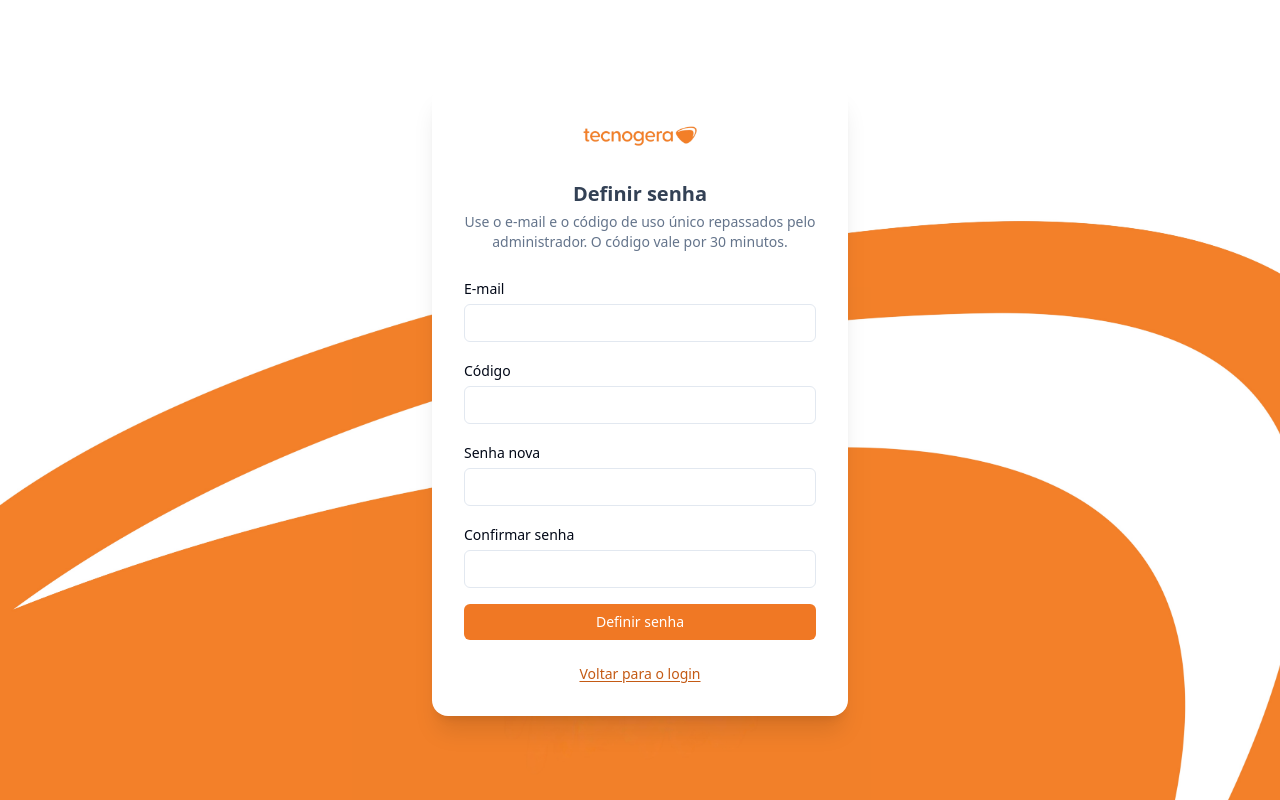
Test: DefinirSenhaPage › exige senha com pelo menos 8 caracteres antes de enviar
This screenshot has width=1280, height=800.
Type "usuario@tecnogera.com" into the field labelled "E-mail" at (640, 323), box [464,304,816,342]
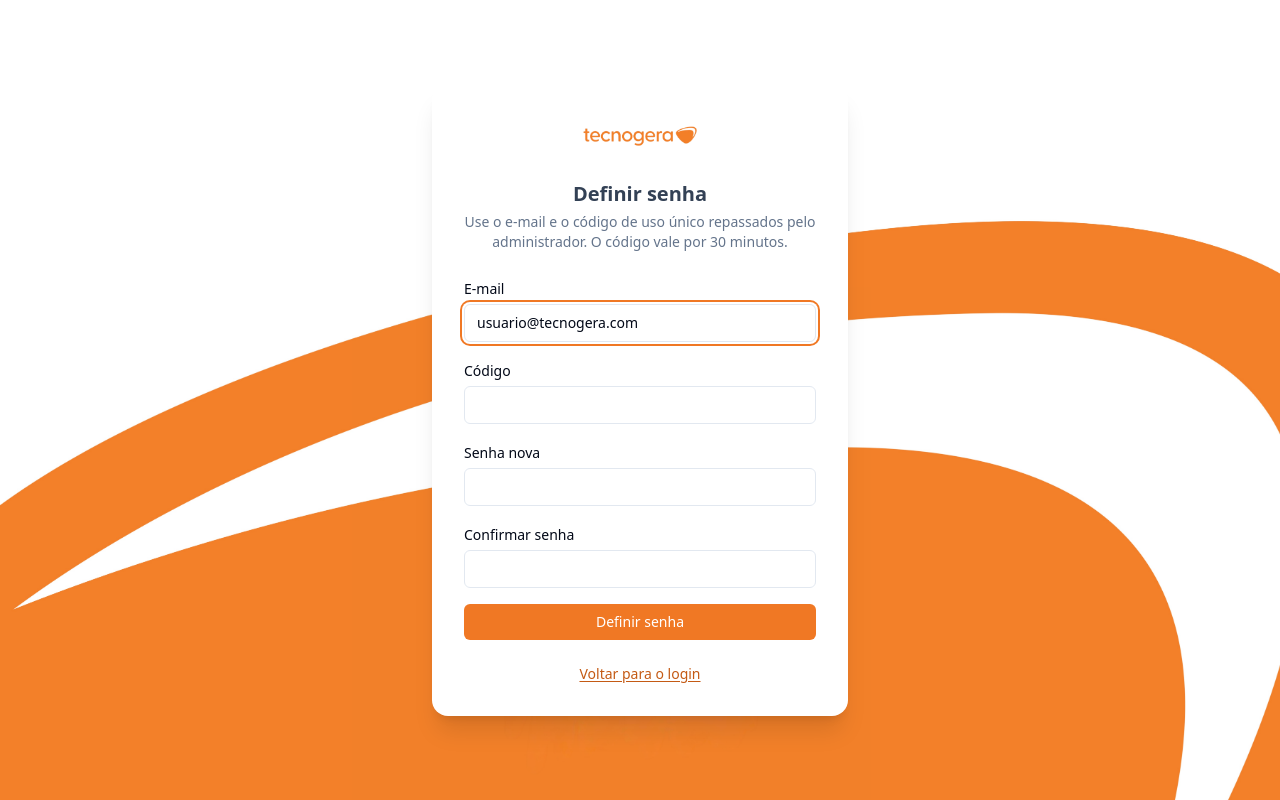
Type "CODIGO-1" into the field labelled "Código" at (640, 405), box [464,386,816,424]
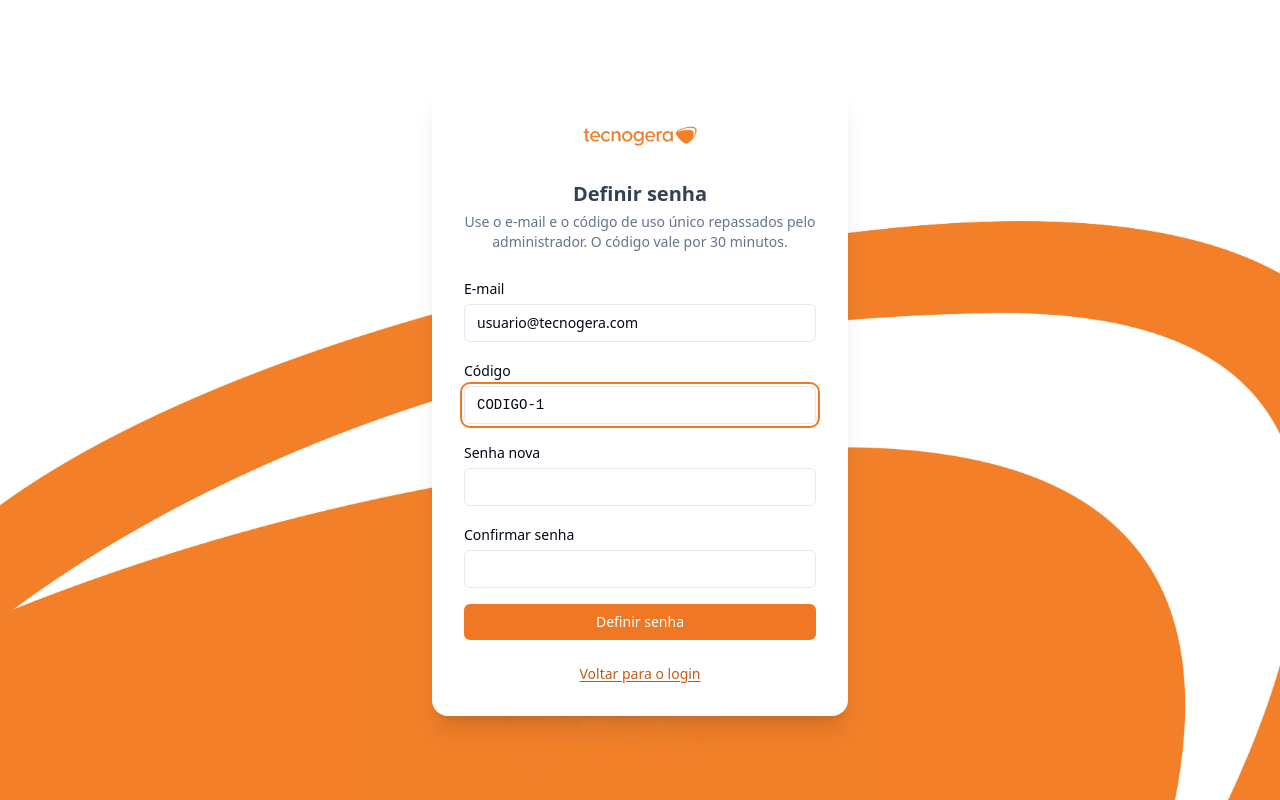
Type "abc123" into the password field labelled "Senha nova" at (640, 487), box [464,468,816,506]
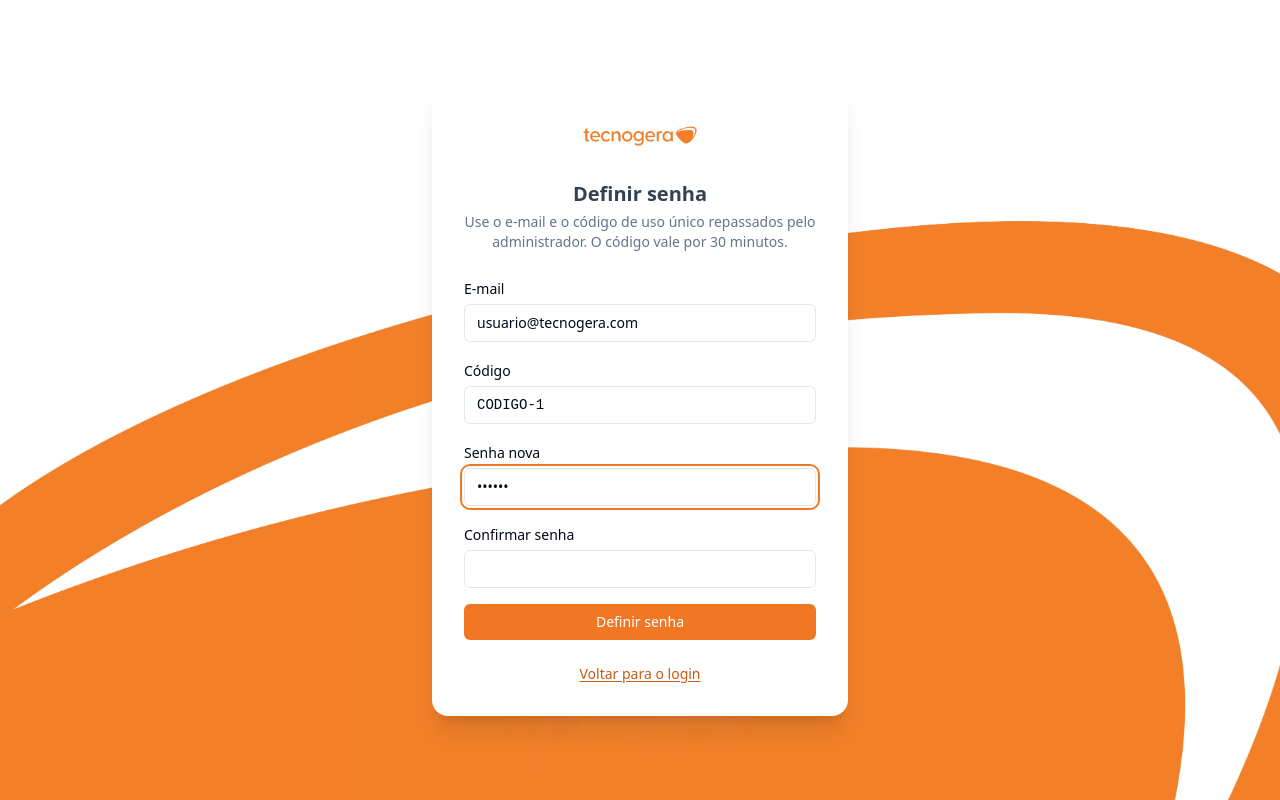
Type "abc123" into the password field labelled "Confirmar senha" at (640, 569), box [464,550,816,588]
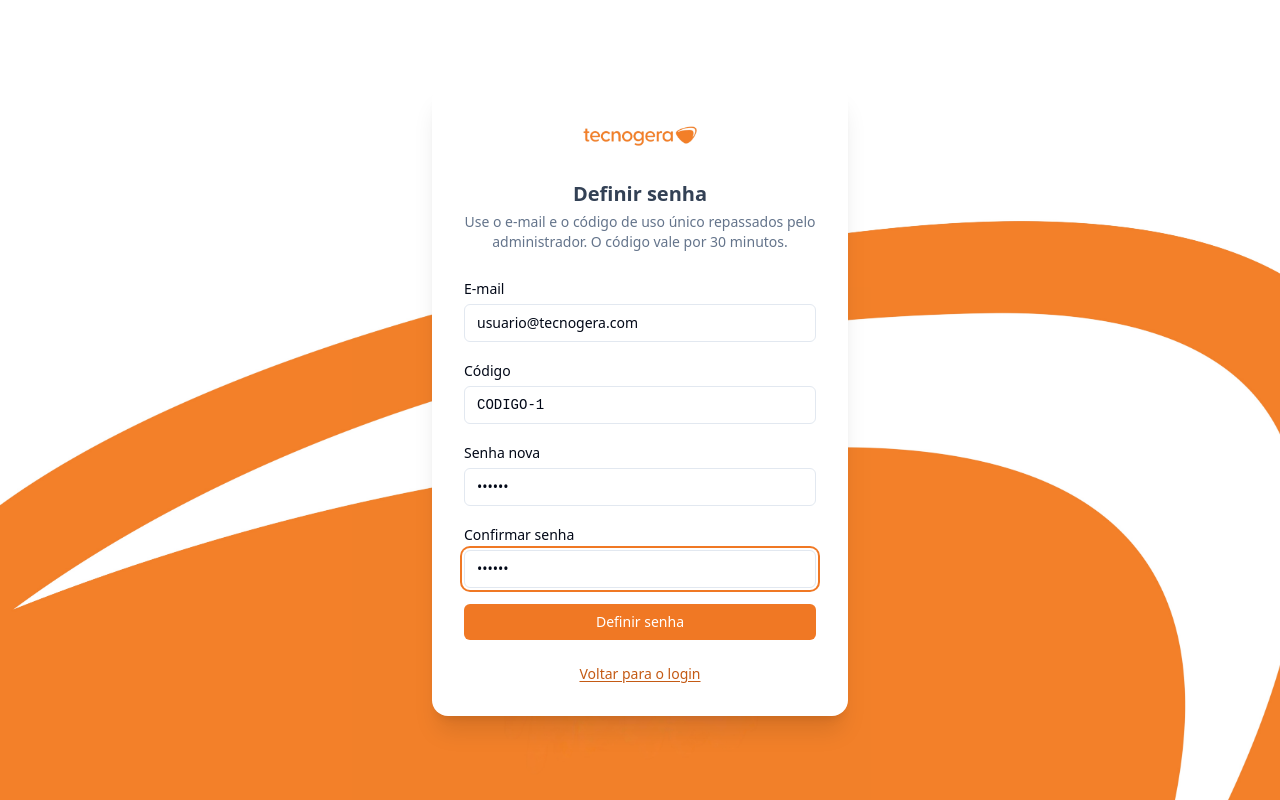
Click the button "Definir senha" at (640, 622), box [464,604,816,640]
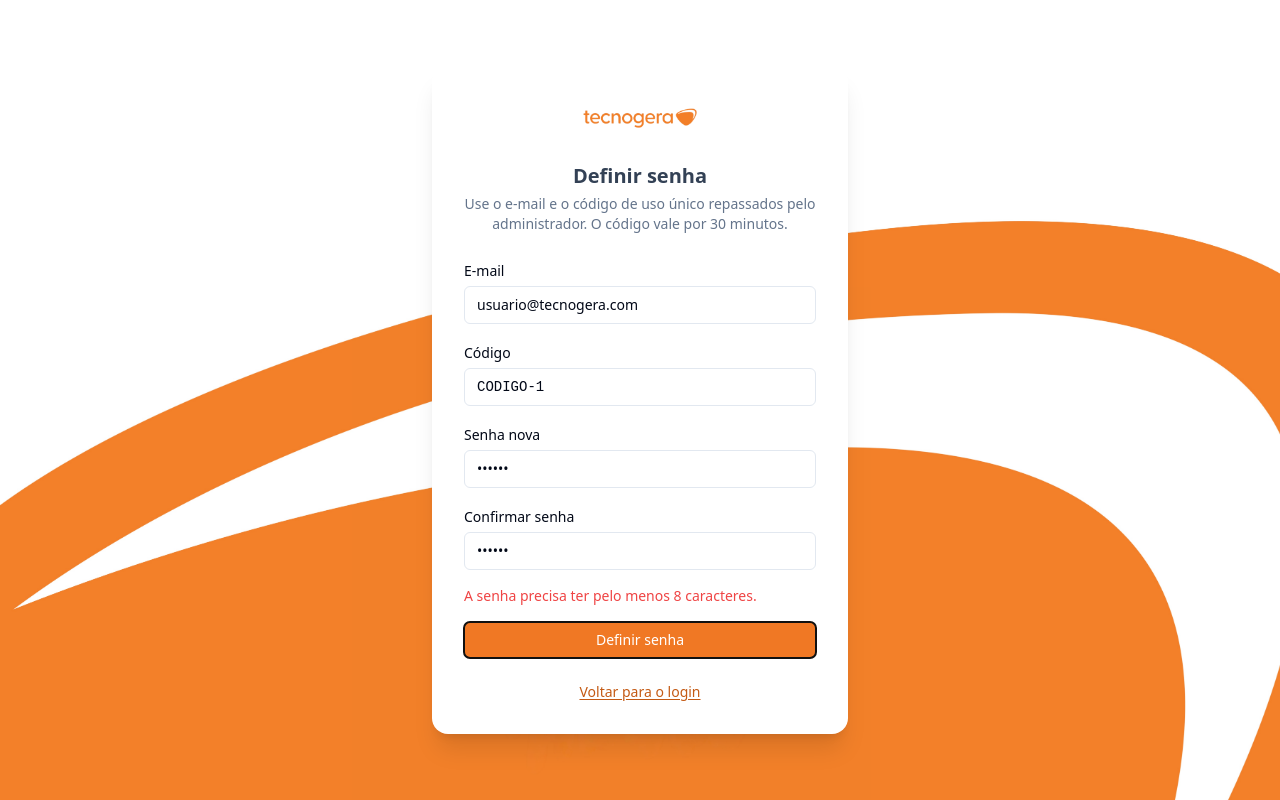
Check: the message with test id "erro-definir-senha" shows "8 caracteres", box [464,586,757,605]
